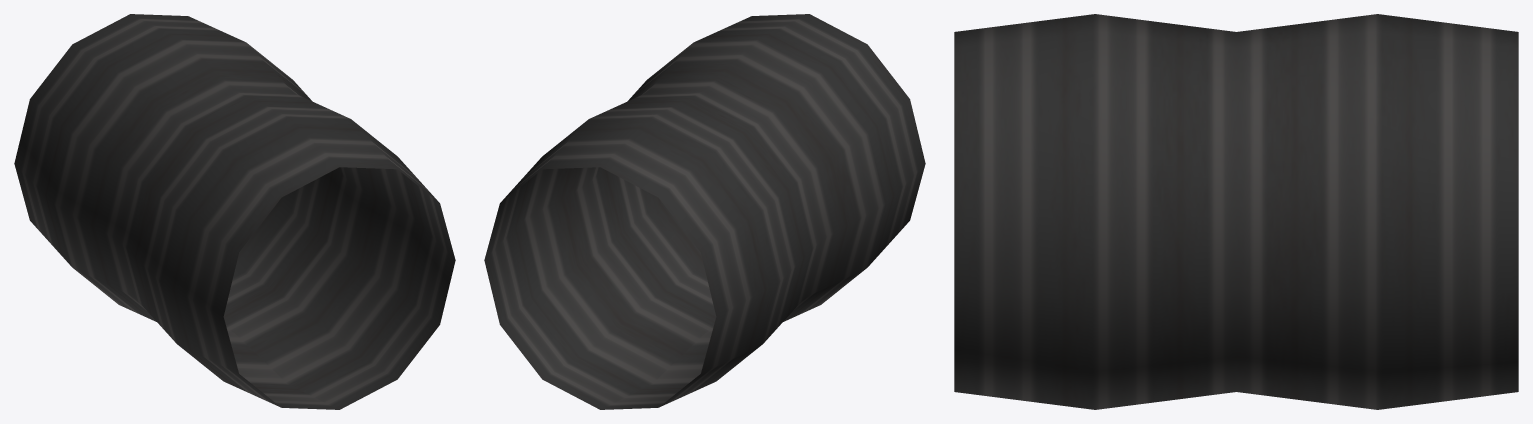
File: SM_UPF-Cannon_AVPC-90_Pipe.fbx
3 views of the same model, side by side, from view 1: azimuth 30°, elevation 25°; view 2: azimuth 150°, elevation 25°; view 3: azimuth 270°, elevation 25° (orthographic). The views are drawn at different scales.
Visible parts, largest first — view 1: Pipe; view 2: Pipe; view 3: Pipe.
Part boxes in pixels (x1,y1,x2,y2): Pipe: [14, 14, 455, 409]; Pipe: [484, 14, 925, 409]; Pipe: [954, 14, 1518, 409].
Size of what is drawn, in the model's own units: 141 by 141 by 200.
